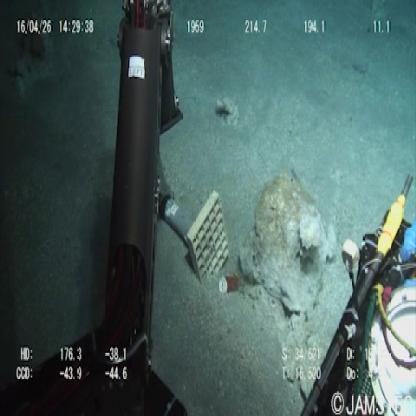Rov: (97, 1, 186, 392), (298, 171, 416, 414), (154, 186, 233, 285)
